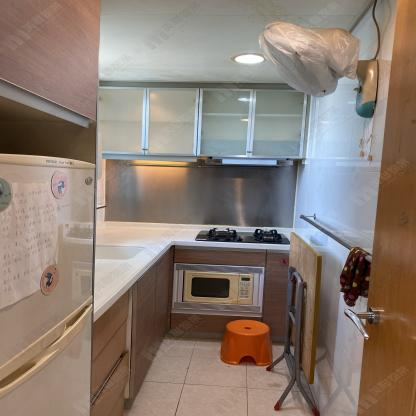Cupboard: (101, 88, 313, 159), (91, 246, 175, 414)
Fridge: (0, 155, 97, 415)
Microwave: (182, 272, 256, 305)
Sink: (91, 245, 142, 262)
Stove: (195, 227, 289, 244)
